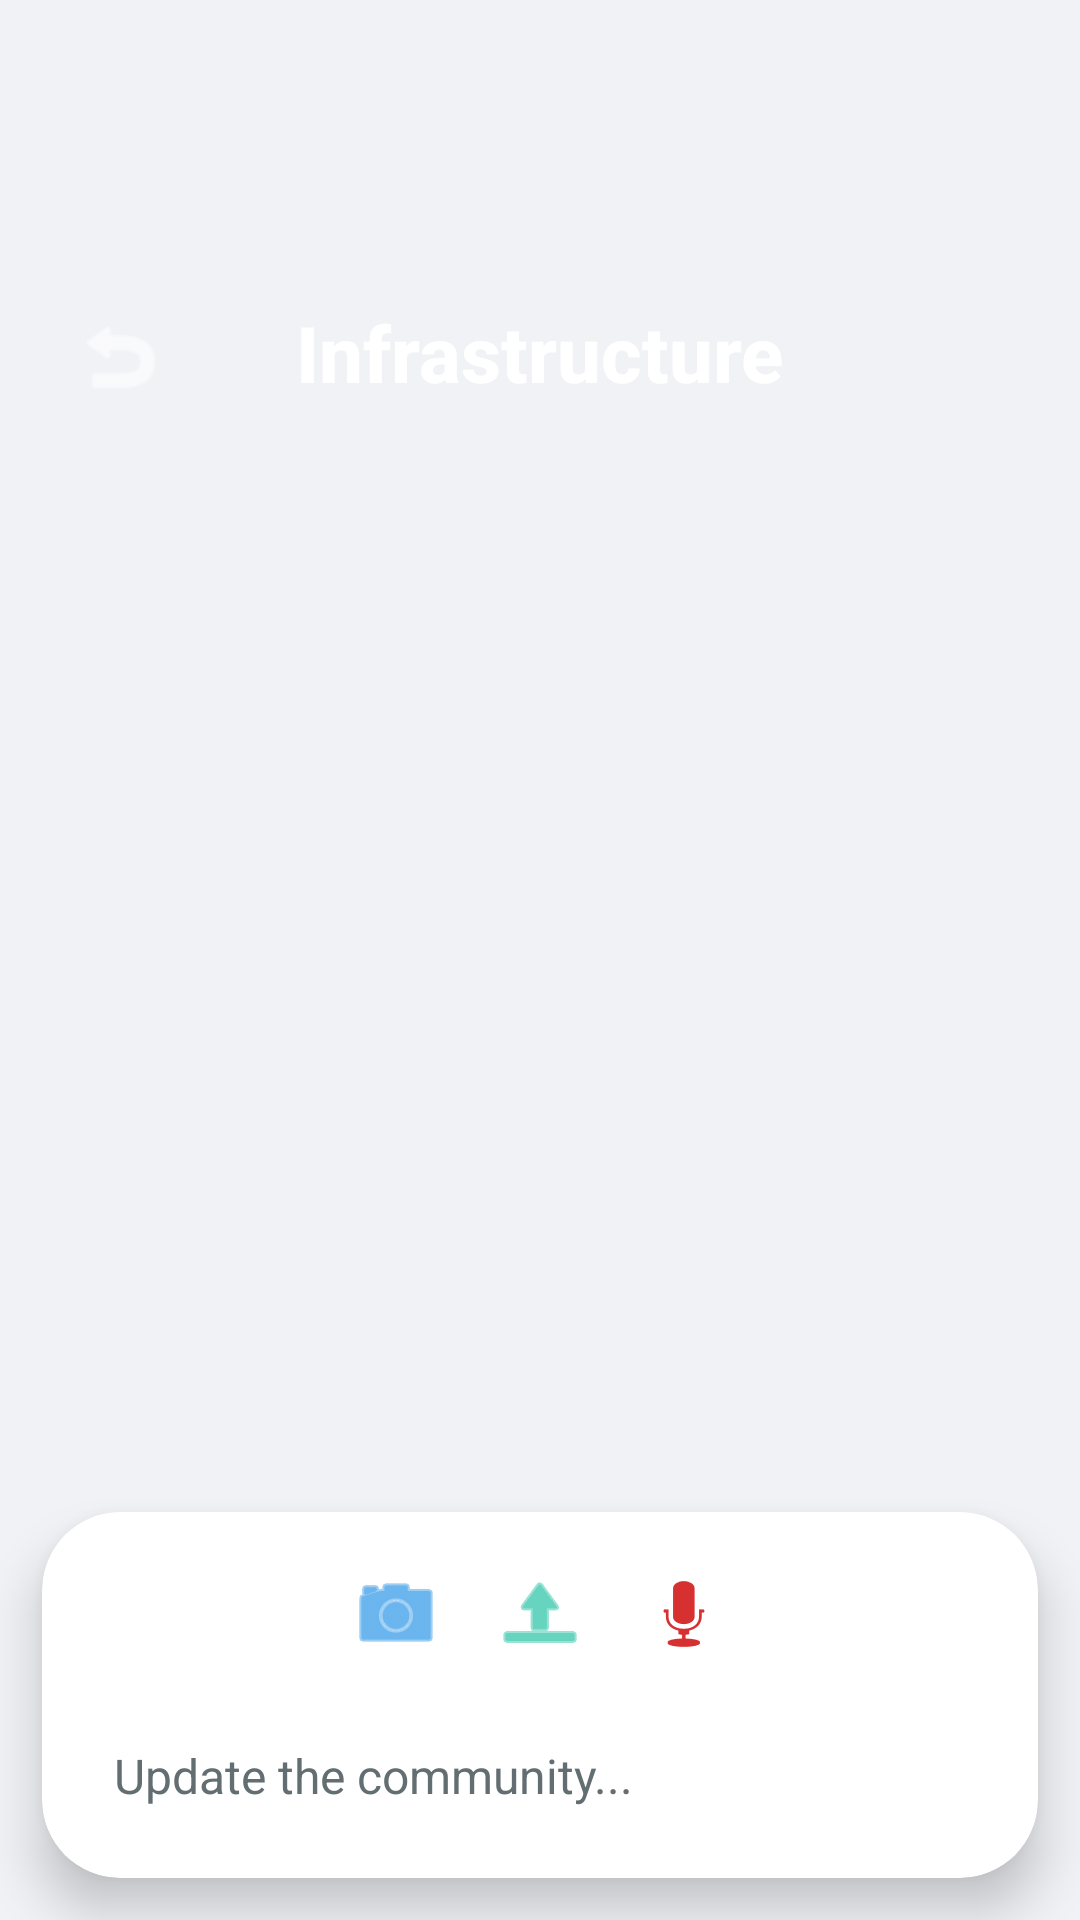

Named icons in this screenshot (1080x1920) and their bounding boxes, (x1, y1, x2, y2):
camera: (359, 1583, 433, 1642)
speak now: (663, 1581, 705, 1647)
upload: (503, 1582, 577, 1643)
